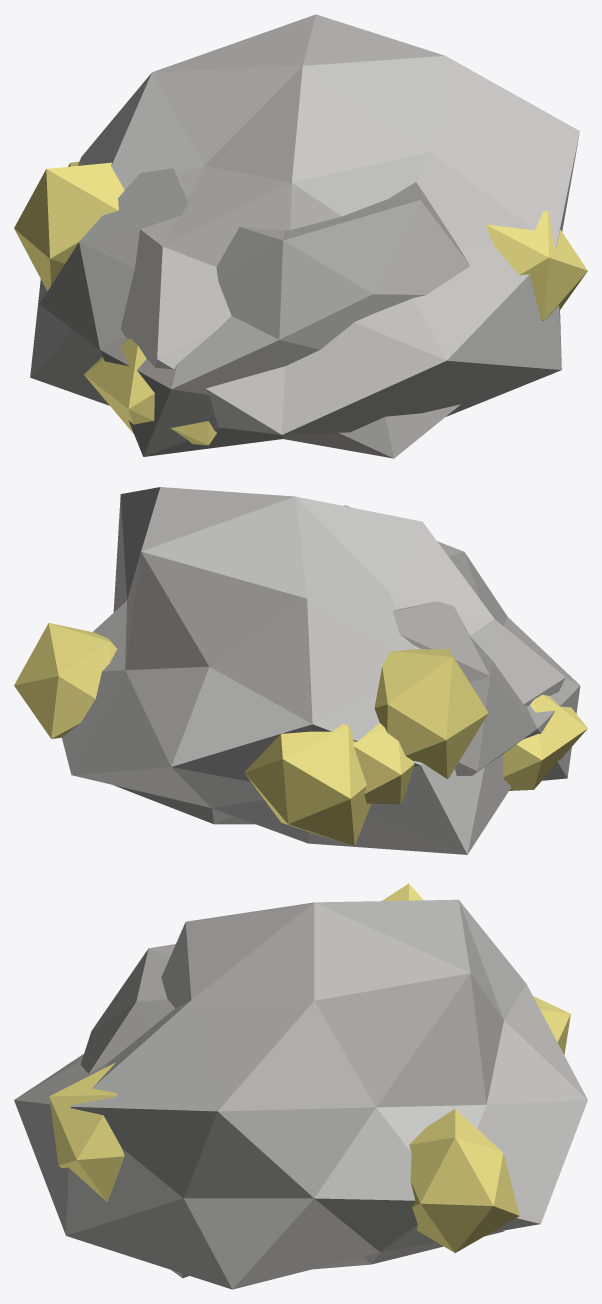
The model's file is node_sulfur_2.glb.
3 views of the same model, one above another, from view 1: azimuth 30°, elevation 25°; view 2: azimuth 150°, elevation 25°; view 3: azimuth 270°, elevation 25° (orthographic). The views are drawn at different scales.
Visible parts, largest first — view 1: node_sulfur_2; view 2: node_sulfur_2; view 3: node_sulfur_2.
Part boxes in pixels (left/top/right/bottom): node_sulfur_2: left=14, top=14, right=587, bottom=458; node_sulfur_2: left=14, top=487, right=587, bottom=854; node_sulfur_2: left=14, top=883, right=587, bottom=1289.
Bounding box in the file's own units: 1.74 × 1.04 × 1.76.
